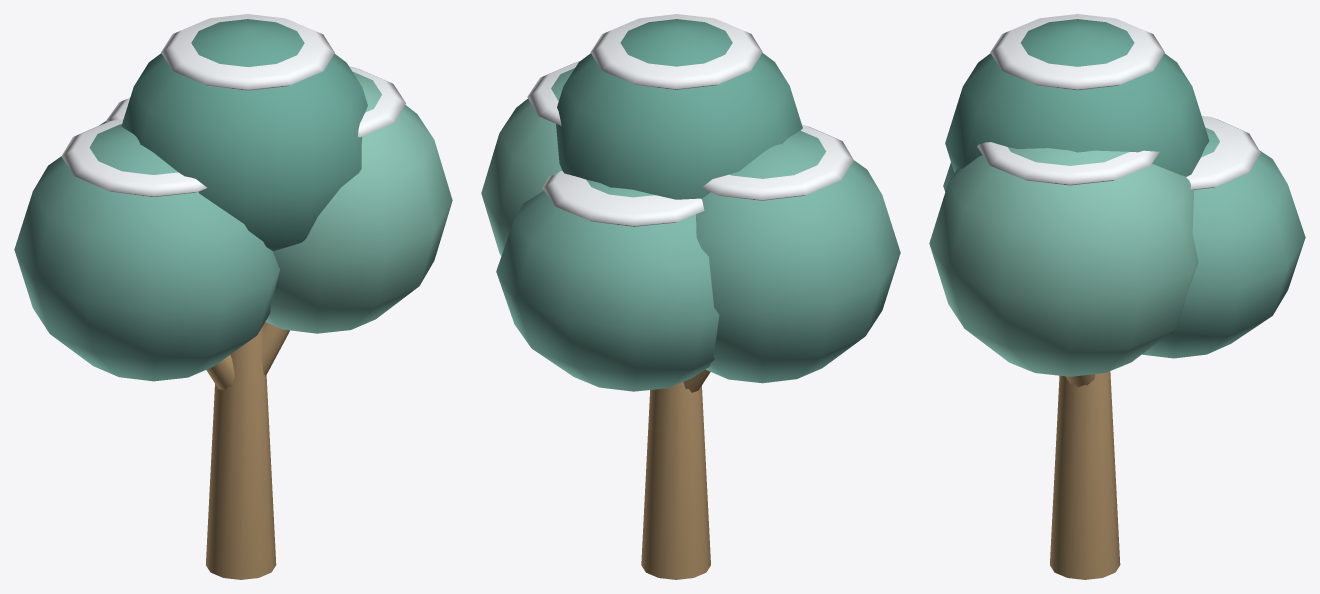
File: tree_fruit_winter.glb
3 views of the same model, side by side, from view 1: azimuth 30°, elevation 25°; view 2: azimuth 150°, elevation 25°; view 3: azimuth 270°, elevation 25° (orthographic).
Bounding box in the file's own units: 2.44 × 3.19 × 2.03.
